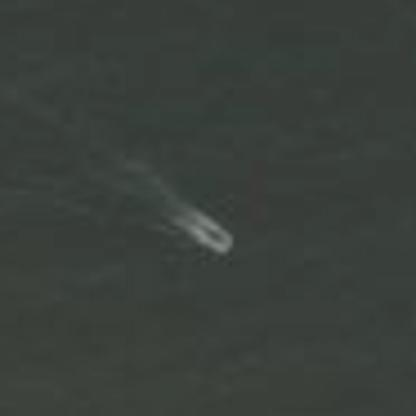ship: (195, 219, 234, 255)
